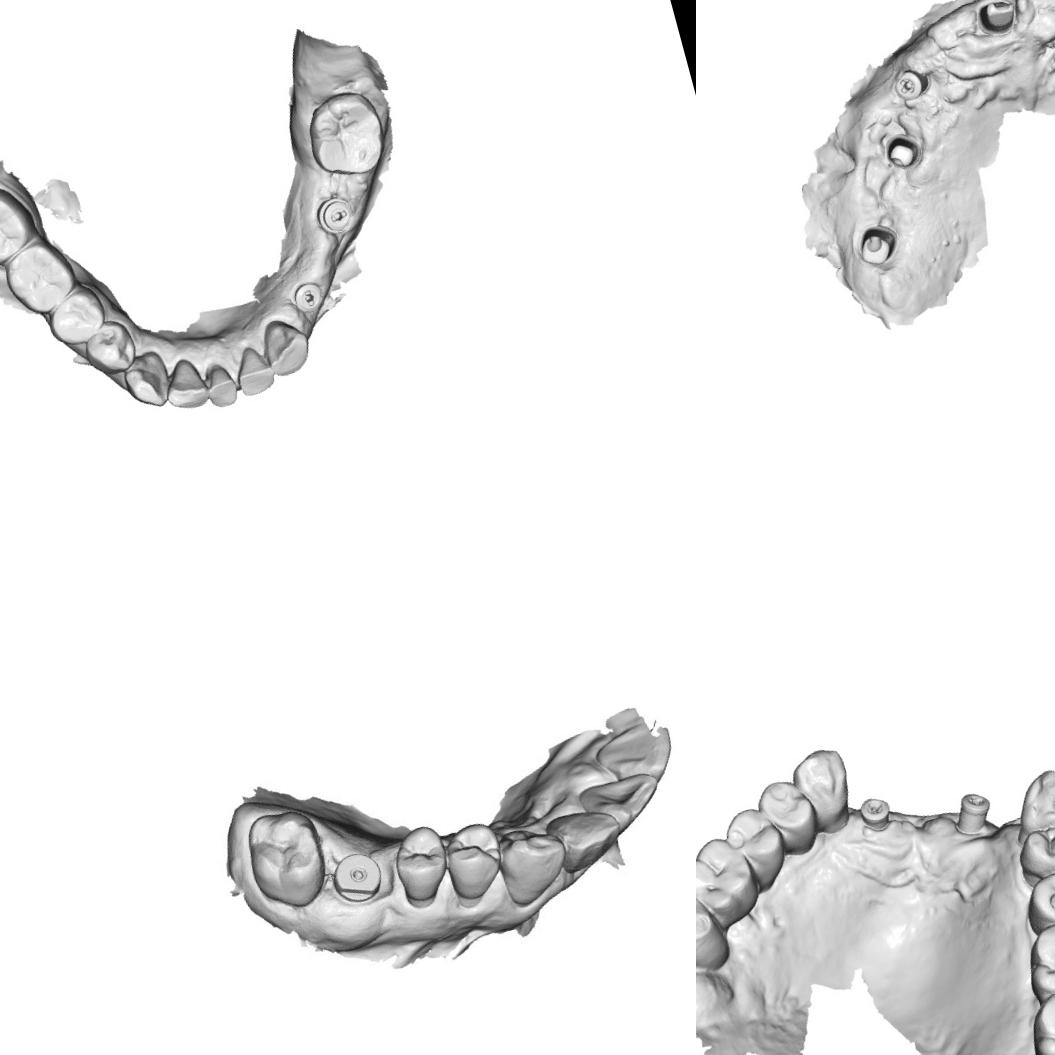abutment: (850, 219, 902, 270), (878, 131, 924, 174), (973, 0, 1019, 37)
canine: (786, 741, 860, 834), (495, 824, 574, 911), (1001, 763, 1055, 840), (117, 344, 174, 414)
implant: (327, 848, 386, 910)
implant_minus: (310, 191, 358, 239), (288, 278, 327, 317)
implant_plus: (946, 786, 998, 839), (854, 790, 897, 836), (888, 64, 928, 105)
incisor: (548, 800, 626, 878), (599, 717, 680, 788), (584, 767, 667, 832), (256, 312, 315, 380), (158, 350, 214, 415), (228, 340, 280, 399), (199, 359, 241, 411)
molar: (237, 800, 336, 910), (297, 82, 394, 184), (0, 231, 83, 322), (696, 829, 765, 929), (696, 878, 734, 982), (0, 179, 40, 272), (1015, 912, 1055, 1001), (1019, 981, 1055, 1055)
premolar: (720, 800, 794, 892), (752, 771, 826, 863), (440, 821, 508, 904), (39, 278, 112, 352), (392, 824, 453, 906), (76, 313, 142, 381), (1010, 816, 1055, 886), (1016, 862, 1055, 937)
